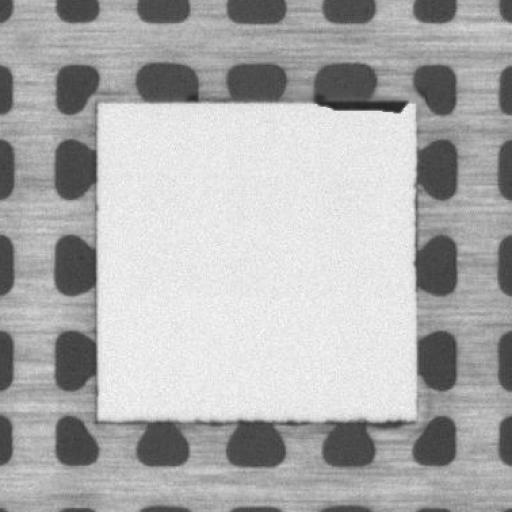DIE_BROKEN: (312, 96, 410, 115)
